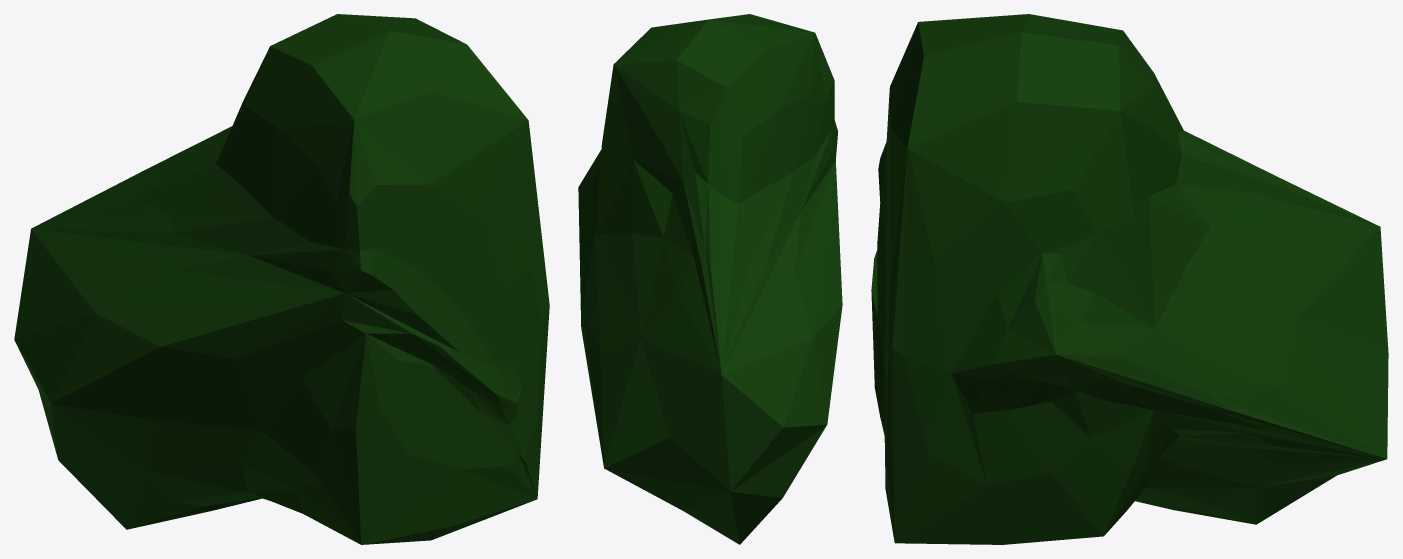
3 views of the same model, side by side, from view 1: azimuth 30°, elevation 25°; view 2: azimuth 150°, elevation 25°; view 3: azimuth 270°, elevation 25° (orthographic). The views are drawn at different scales.
Visible parts, largest first — view 1: 072_Cube.293; view 2: 072_Cube.293; view 3: 072_Cube.293.
Boxes of the visible parts, box(x1,y1,x2,y2) form: 072_Cube.293: box(14, 14, 549, 544); 072_Cube.293: box(578, 14, 842, 544); 072_Cube.293: box(871, 14, 1388, 544).
Size of the model in its own units: 10.39 by 13.78 by 11.32.
